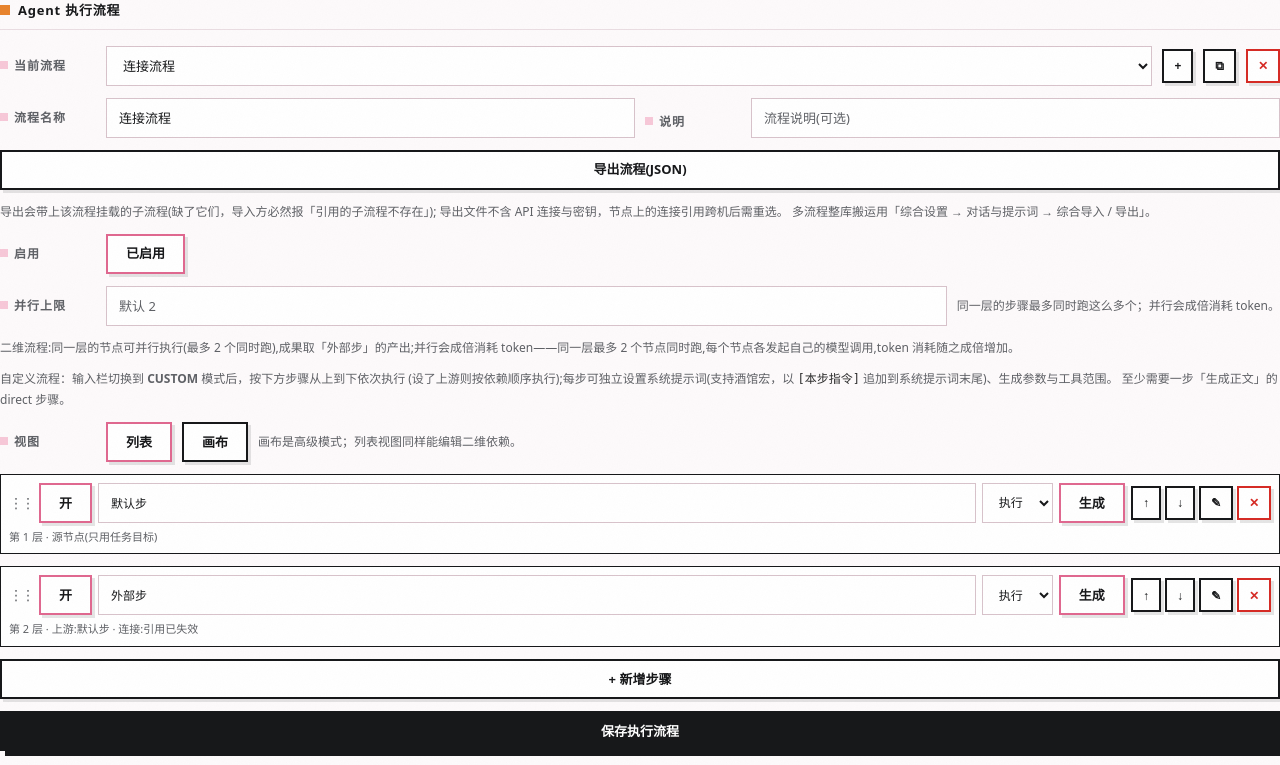
Scenario: AgentFlowSection 节点级连接(二维批次 5b) › 引用已失效/已停用的连接:选择器保位显示并给出警示(不静默改绑)
Click the 2nd button titled "编辑详情".
click(1216, 596)  # box left=1199, top=578, right=1233, bottom=612
(page scrolled)
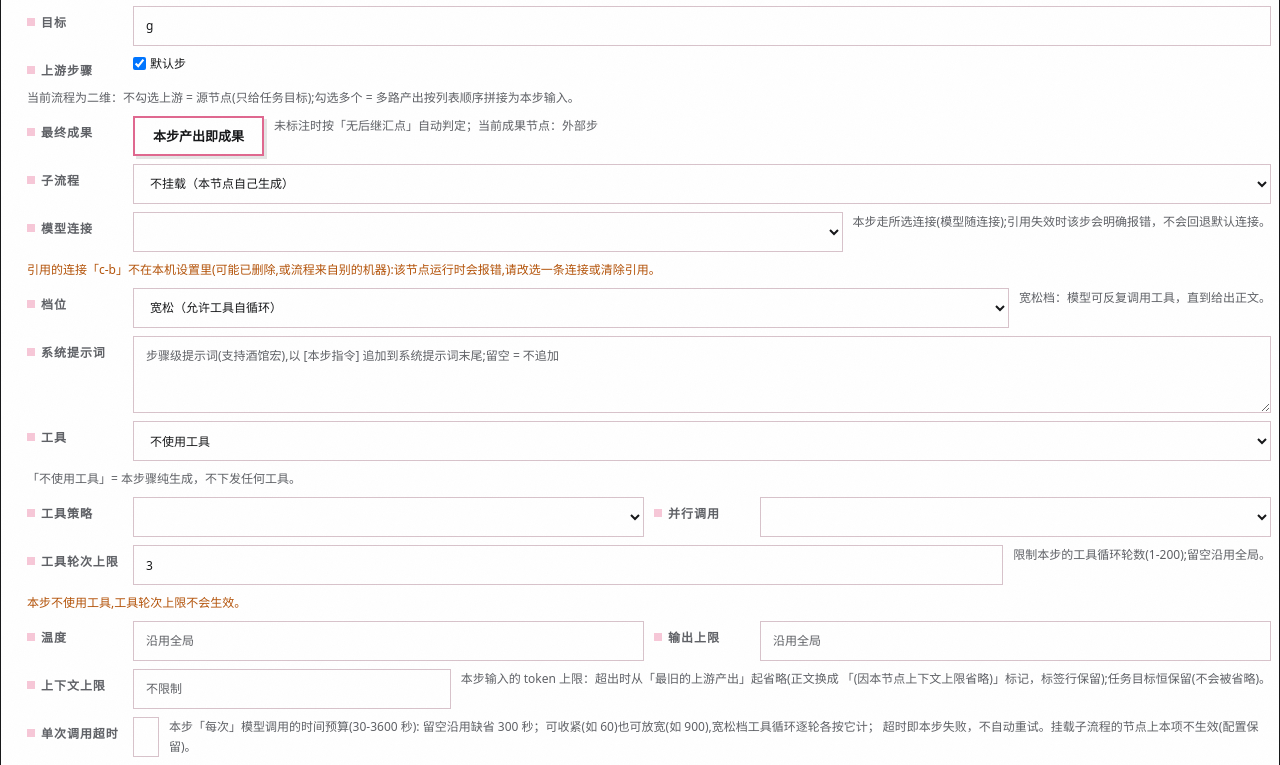
expect the element with class "flow-edit" shows "运行时会报错": met, box left=27, top=261, right=661, bottom=278
